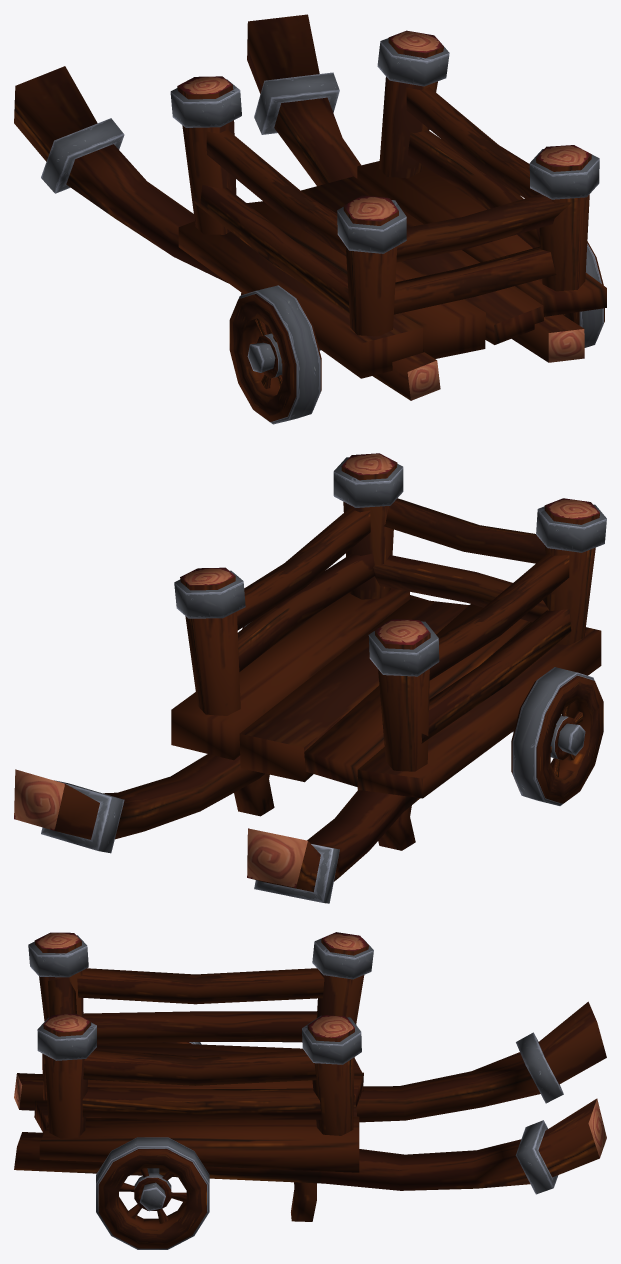
The model's file is charrette-1.glb.
3 views of the same model, one above another, from view 1: azimuth 30°, elevation 25°; view 2: azimuth 150°, elevation 25°; view 3: azimuth 270°, elevation 25° (orthographic). The views are drawn at different scales.
Parts seen in each view (by area): view 1: SM_PROP_cart_01; view 2: SM_PROP_cart_01; view 3: SM_PROP_cart_01.
Part boxes in pixels (x1,y1,x2,y2): SM_PROP_cart_01: (14, 14, 606, 424); SM_PROP_cart_01: (14, 453, 606, 903); SM_PROP_cart_01: (14, 932, 606, 1249).
Size of the model in its own units: 2.34 by 1.68 by 4.38.
3 materials, 3 textured.
